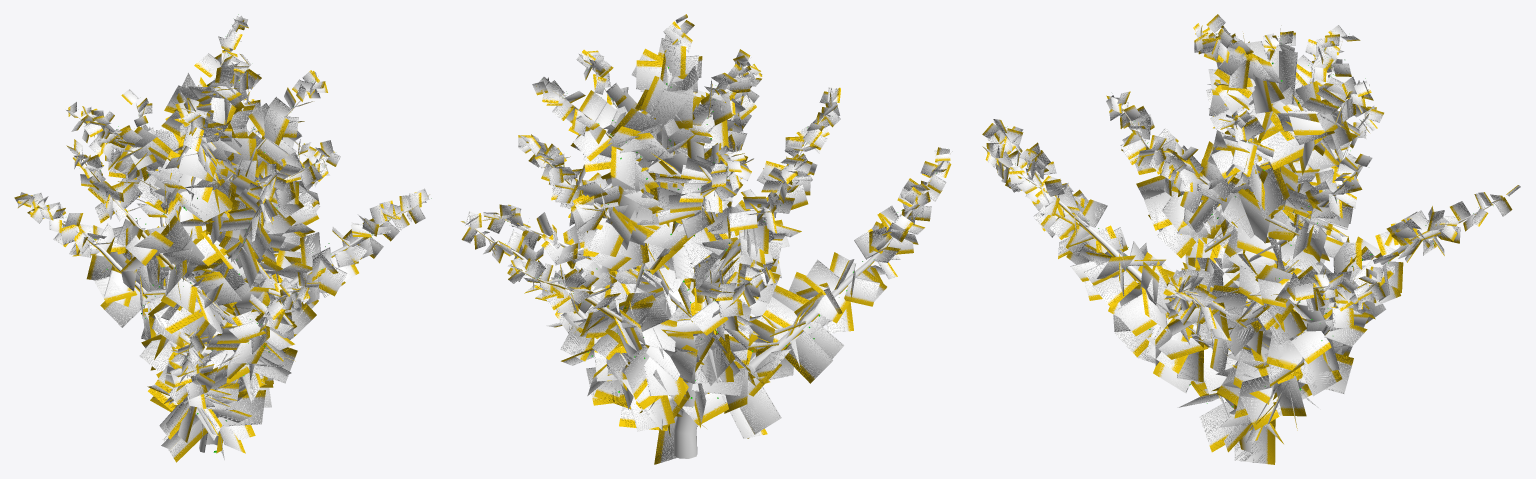
File: Tree_fix.fbx
3 renders of one model, left to right at view 1: azimuth 30°, elevation 25°; view 2: azimuth 150°, elevation 25°; view 3: azimuth 270°, elevation 25°, orthographic. The views are drawn at different scales.
Visible parts, largest first — view 1: Tree_fix; view 2: Tree_fix; view 3: Tree_fix.
Part boxes in pixels (left/top/right/bottom): Tree_fix: left=14, top=14, right=431, bottom=462; Tree_fix: left=461, top=14, right=952, bottom=464; Tree_fix: left=982, top=14, right=1520, bottom=464.
Bounding box in the file's own units: 1601 × 1905 × 2068.
